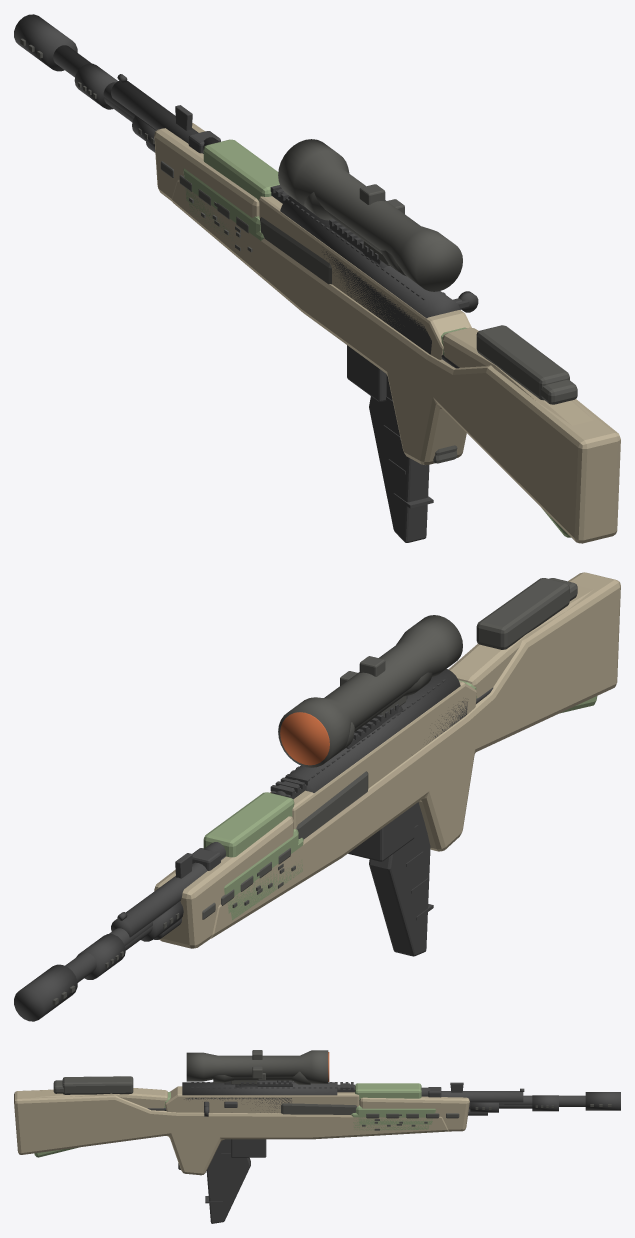
Rendered from guns.glb.
3 views of the same model, one above another, from view 1: azimuth 30°, elevation 25°; view 2: azimuth 150°, elevation 25°; view 3: azimuth 270°, elevation 25° (orthographic). The views are drawn at different scales.
Parts seen in each view (by area): view 1: sr, dmr, ar, sg, smg; view 2: sr, dmr, ar, sg, smg; view 3: sr, dmr, ar, sg, smg.
Part boxes in pixels (bbox=[...]): sr: bbox=[14, 14, 620, 543]; dmr: bbox=[74, 63, 593, 438]; ar: bbox=[132, 105, 460, 542]; sg: bbox=[111, 74, 570, 537]; smg: bbox=[260, 188, 459, 368]; sr: bbox=[14, 572, 620, 1021]; dmr: bbox=[76, 578, 593, 979]; ar: bbox=[141, 669, 460, 956]; sg: bbox=[111, 680, 597, 939]; smg: bbox=[275, 687, 493, 839]; sr: bbox=[14, 1050, 620, 1175]; dmr: bbox=[35, 1071, 558, 1169]; ar: bbox=[178, 1080, 498, 1223]; sg: bbox=[34, 1088, 524, 1165]; smg: bbox=[147, 1083, 356, 1114].
Bounding box in the file's own units: 0.1144 × 0.4222 × 1.37.
